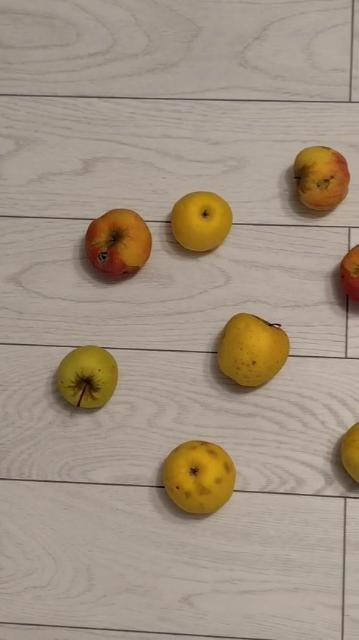apple_green: (161, 439, 237, 513), (217, 312, 289, 385), (58, 345, 120, 411), (170, 190, 233, 252), (341, 421, 358, 484)
apple_red: (85, 209, 152, 277), (292, 145, 350, 210), (339, 242, 358, 304)
